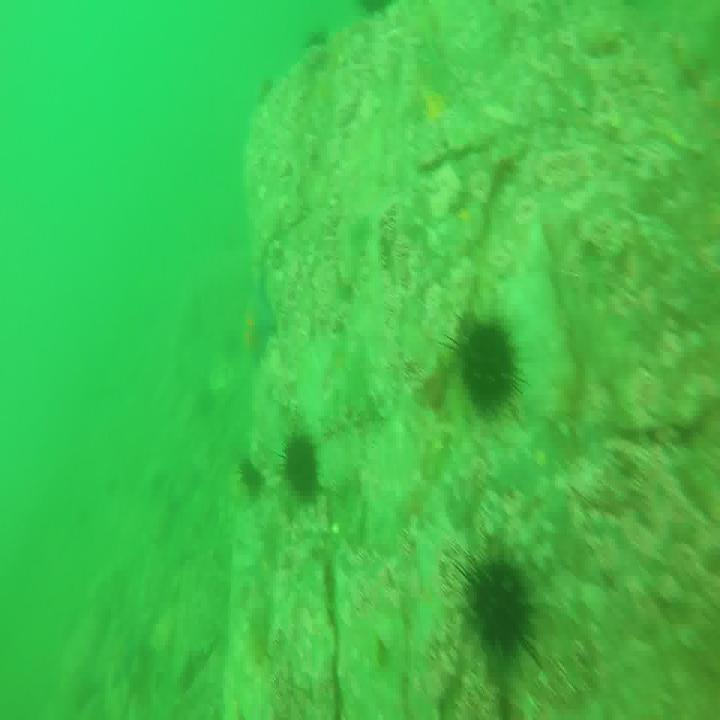echinus: (467, 552, 535, 660), (458, 315, 517, 408), (282, 430, 322, 505), (234, 456, 267, 502)
starfish: (243, 274, 278, 369)
